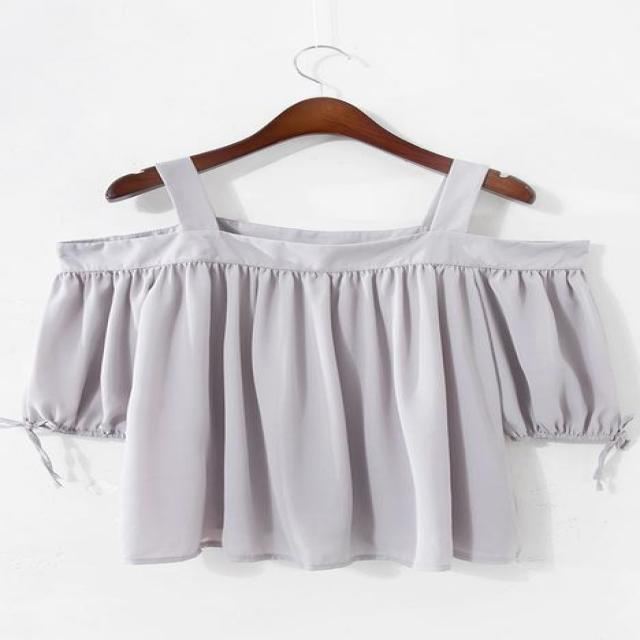long sleeve top: (1, 156, 635, 573)
